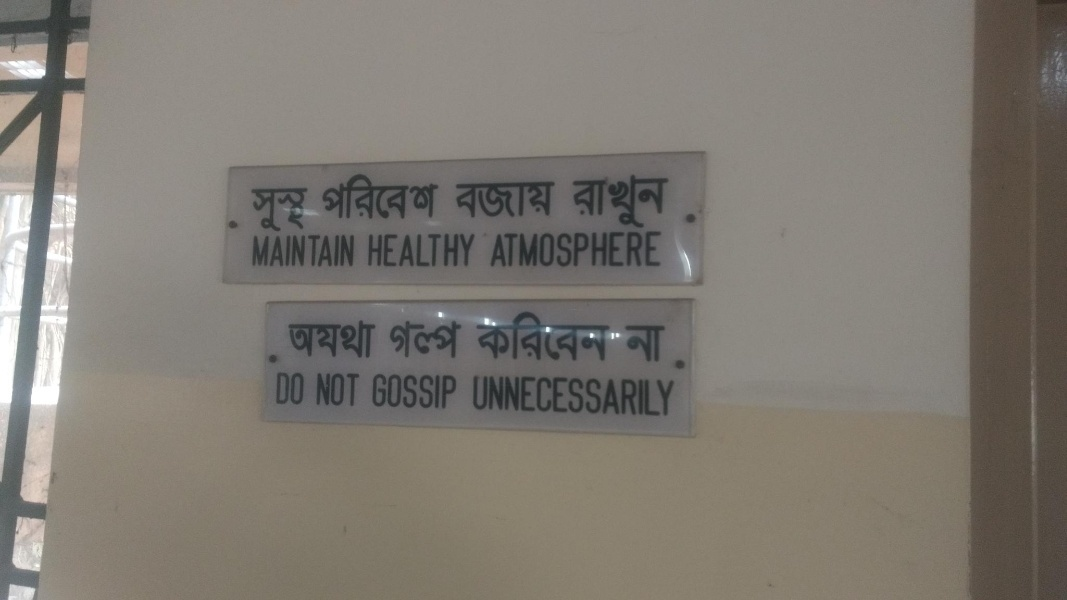text: (577, 173, 592, 229), (593, 173, 608, 229), (609, 173, 624, 229), (625, 173, 640, 229), (641, 173, 656, 229), (481, 311, 496, 366), (497, 311, 512, 366), (513, 311, 528, 366), (529, 311, 544, 366), (545, 311, 560, 366), (561, 311, 576, 366), (577, 311, 592, 366), (593, 311, 608, 366), (337, 172, 352, 220), (353, 172, 368, 220), (369, 172, 384, 220), (385, 172, 400, 220), (401, 172, 416, 220), (417, 172, 432, 220), (257, 187, 272, 233), (273, 187, 288, 233), (289, 187, 304, 233), (657, 173, 669, 229), (481, 374, 496, 418), (497, 374, 512, 418), (513, 374, 528, 418), (529, 374, 544, 418), (545, 374, 560, 418), (561, 374, 576, 418), (577, 374, 592, 418), (593, 374, 608, 418), (609, 374, 624, 418), (625, 374, 640, 418), (641, 374, 656, 418), (657, 374, 672, 418), (289, 319, 304, 360), (305, 319, 320, 360), (321, 319, 336, 360), (337, 319, 352, 360), (353, 319, 368, 360), (401, 318, 416, 359), (417, 318, 432, 359), (433, 318, 448, 359), (497, 229, 512, 270), (513, 229, 528, 270), (529, 229, 544, 270), (545, 229, 560, 270), (561, 229, 576, 270), (577, 229, 592, 270), (593, 229, 608, 270), (609, 229, 624, 270), (625, 229, 640, 270), (641, 229, 656, 270), (625, 325, 640, 364), (641, 325, 656, 364), (324, 172, 336, 220), (449, 318, 463, 359), (257, 231, 272, 269), (273, 231, 288, 269), (289, 231, 304, 269), (305, 231, 320, 269), (321, 231, 336, 269), (337, 231, 352, 269), (465, 181, 480, 219), (481, 181, 496, 219), (497, 181, 512, 219), (513, 181, 528, 219), (529, 181, 544, 219), (369, 230, 384, 267), (385, 230, 400, 267), (401, 230, 416, 267), (417, 230, 432, 267), (433, 230, 448, 267), (449, 230, 464, 267), (385, 372, 400, 409), (401, 372, 416, 409), (417, 372, 432, 409), (433, 372, 448, 409), (321, 373, 336, 409), (337, 373, 352, 409), (289, 371, 304, 406), (471, 311, 480, 366), (388, 318, 400, 359), (465, 230, 478, 267), (373, 372, 384, 409), (433, 172, 441, 220), (545, 181, 555, 219), (449, 372, 459, 409), (278, 371, 288, 406), (369, 319, 377, 360), (657, 325, 665, 364), (473, 374, 480, 418), (456, 181, 464, 219), (353, 373, 361, 409), (657, 229, 664, 270), (609, 311, 614, 366), (491, 229, 496, 270), (251, 231, 256, 269), (353, 231, 358, 269), (252, 187, 256, 233), (305, 187, 309, 233), (673, 374, 677, 418), (574, 173, 576, 229), (317, 373, 320, 409), (366, 230, 368, 267), (305, 371, 306, 406)
